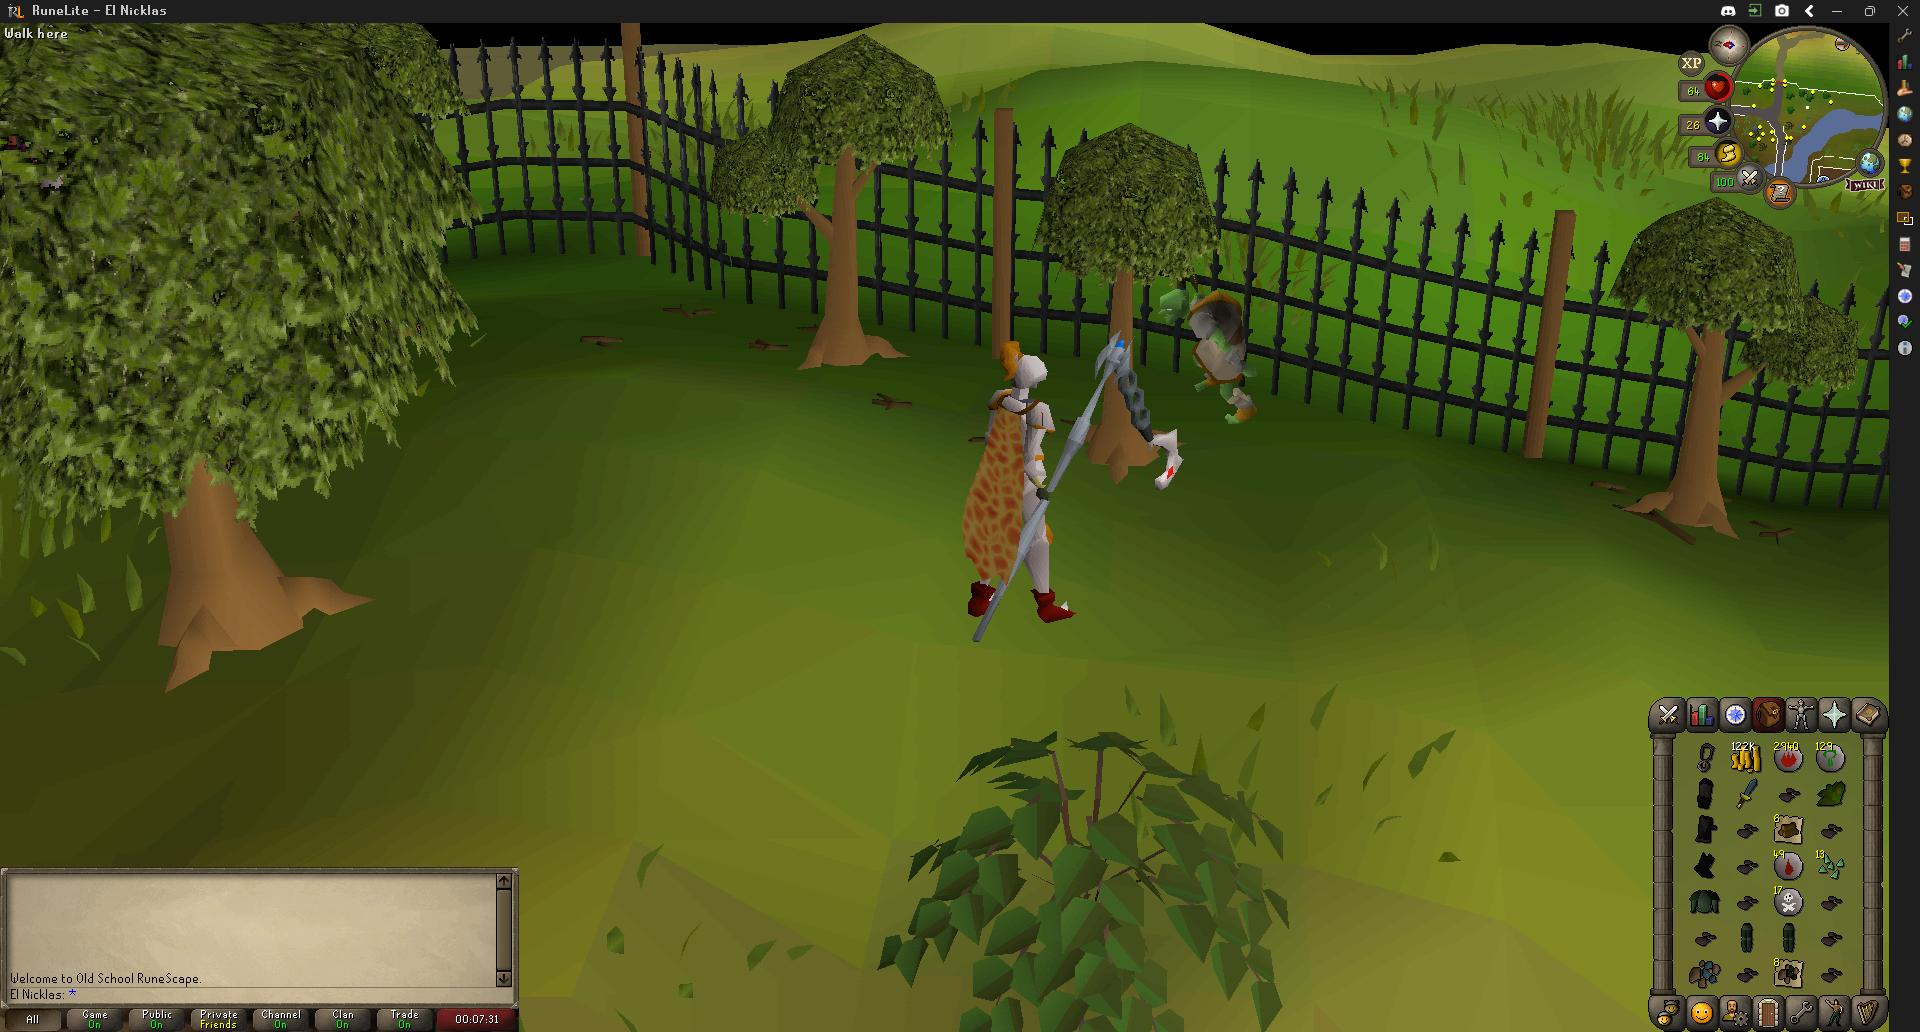Player: (974, 339, 1079, 624)
goblin: (1185, 289, 1262, 422)
